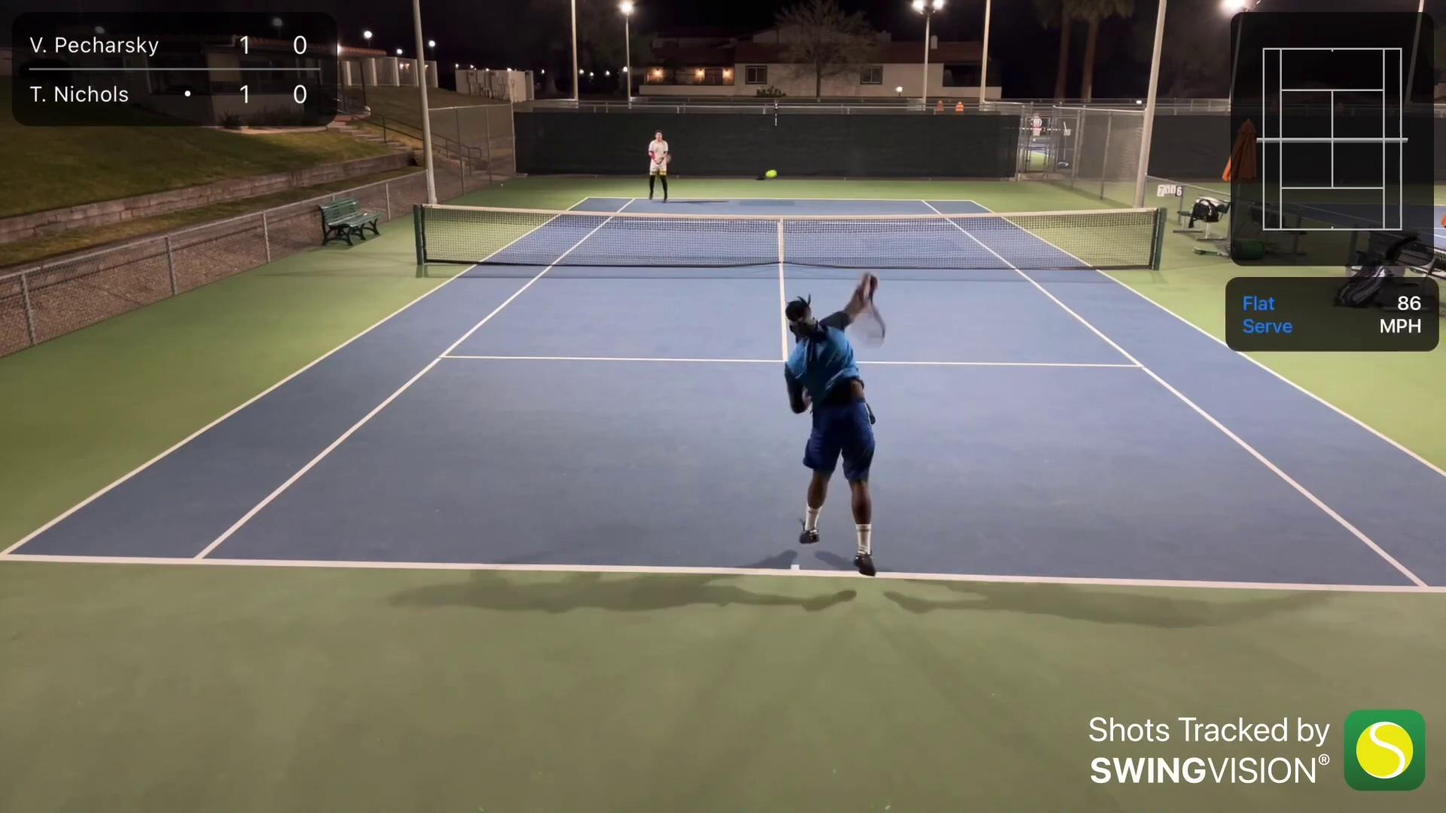ball: (764, 166, 780, 181)
